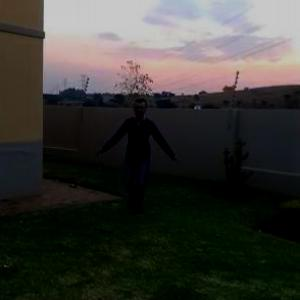land: (95, 97, 181, 218)
